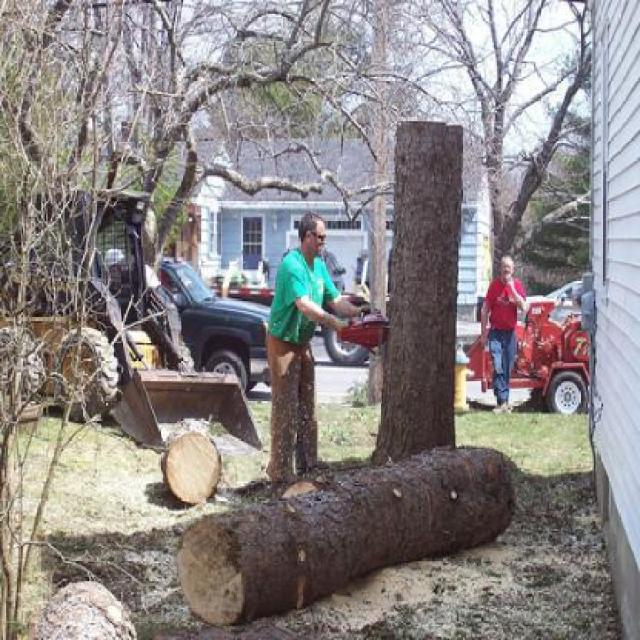Chainsaw: (340, 305, 391, 350)
